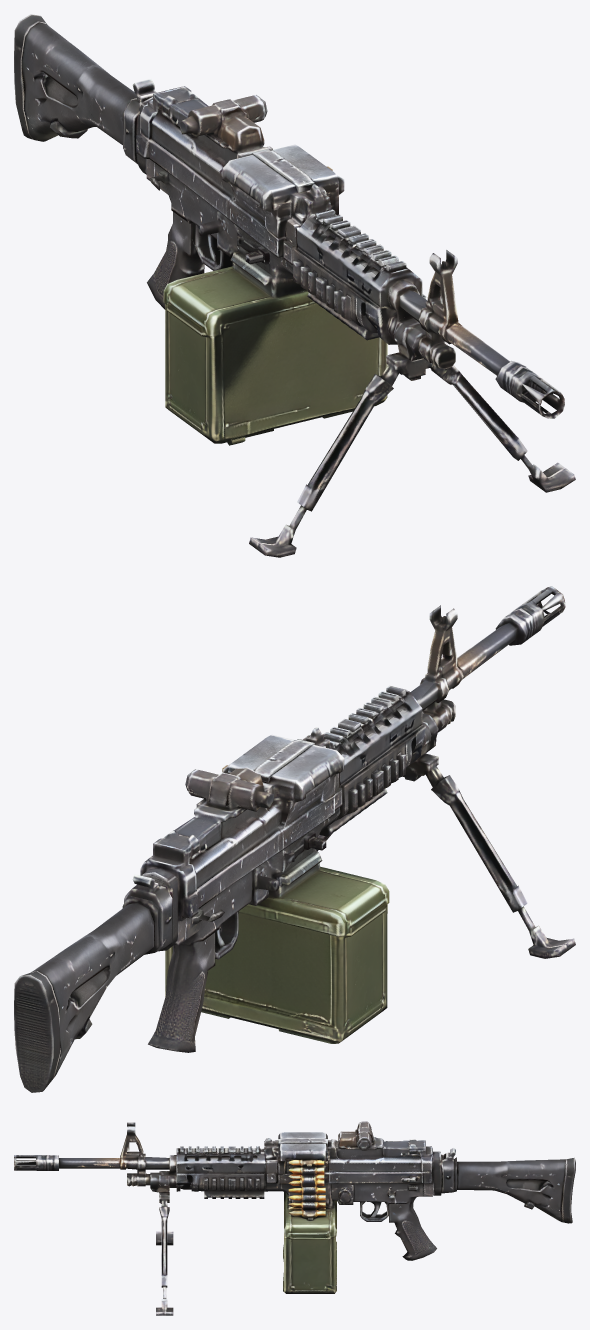
The model's file is base_basic_shaded.glb.
The picture shows the model from 3 angles, top to bottom: view 1: azimuth 30°, elevation 25°; view 2: azimuth 150°, elevation 25°; view 3: azimuth 270°, elevation 25°; orthographic projection. The views are drawn at different scales.
Parts seen in each view (by area): view 1: model; view 2: model; view 3: model.
Part boxes in pixels (x1=…): model: x1=14, y1=14, x2=575, y2=557; model: x1=14, y1=586, x2=575, y2=1092; model: x1=14, y1=1121, x2=575, y2=1315.
Size of the model in its own units: 0.568 by 0.5 by 1.66.
1 material, 1 textured.
